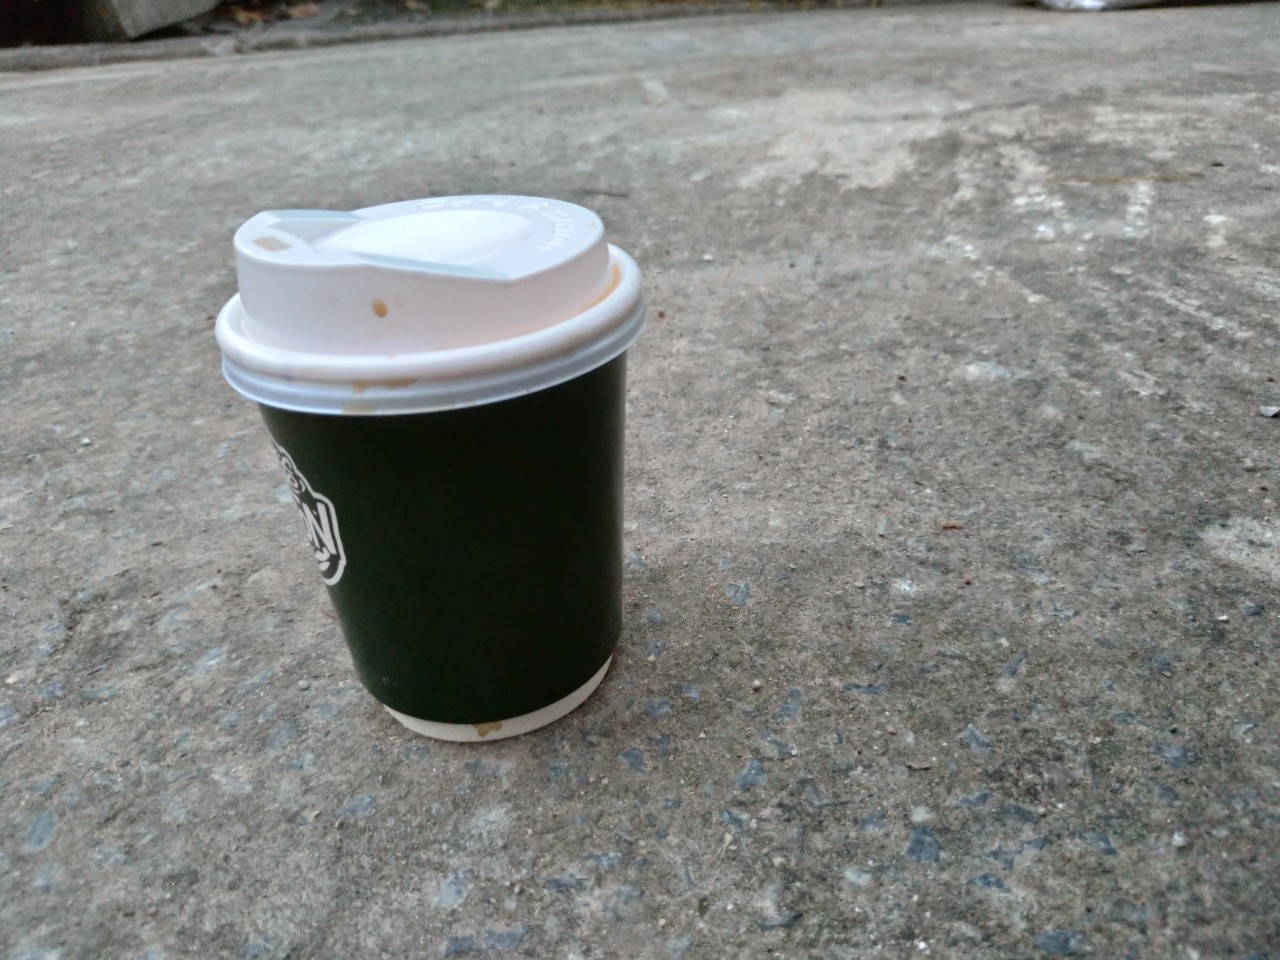PaperCup: (219, 192, 640, 734)
